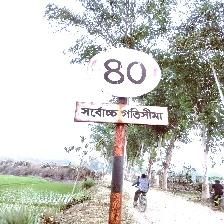Speed-limit: (75, 47, 167, 127)
